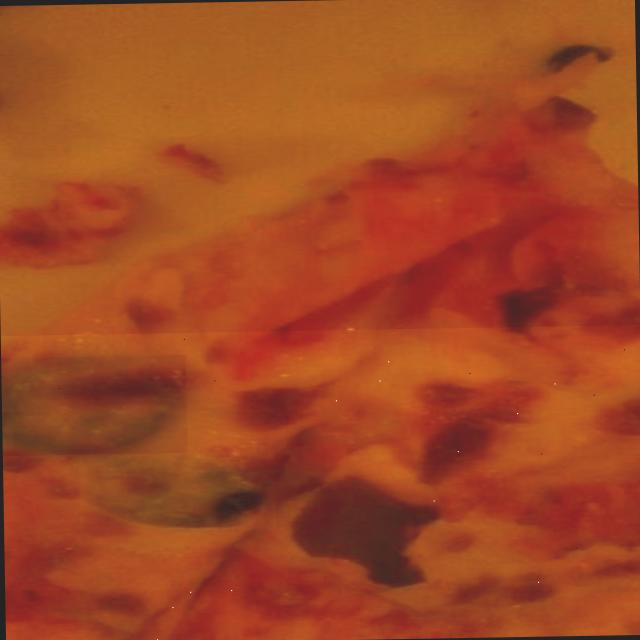Olive: (1, 354, 188, 456), (79, 450, 276, 532)
cheese: (0, 0, 640, 335), (356, 346, 640, 587)
